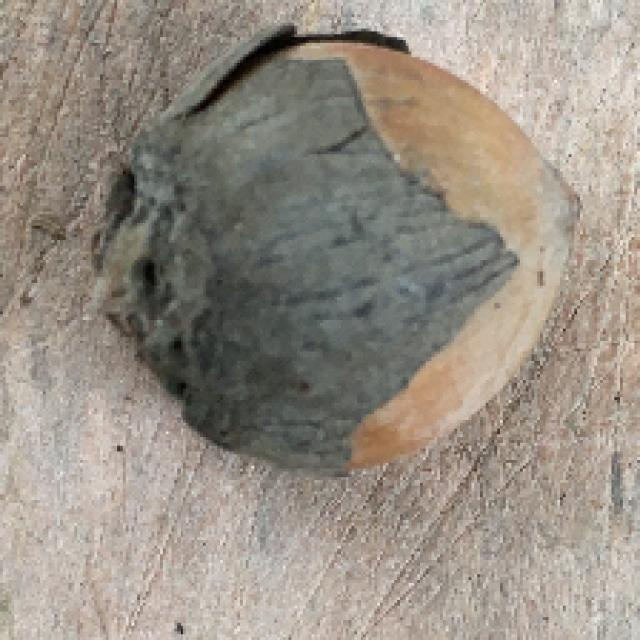damagedHazelnut: (107, 16, 577, 478)
